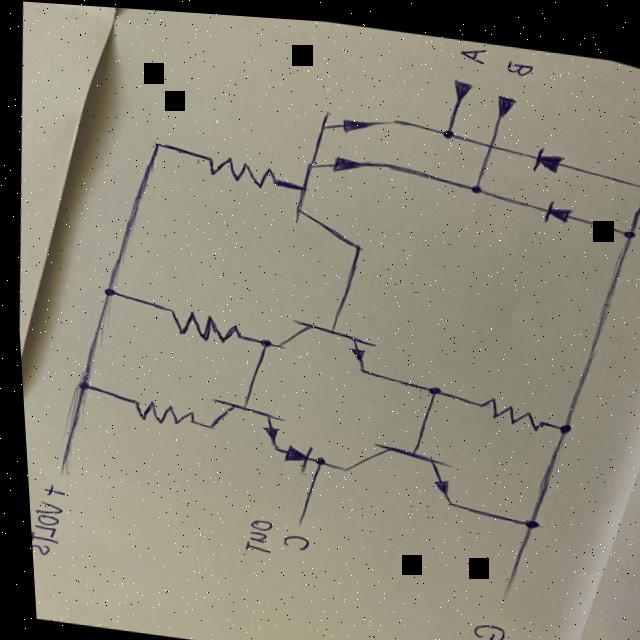crossover: (480, 132, 495, 146)
diode: (524, 135, 565, 172), (534, 190, 571, 221), (275, 438, 306, 472)
junction: (88, 279, 119, 303), (62, 373, 90, 396), (457, 169, 484, 192), (510, 506, 536, 528), (412, 374, 442, 393), (141, 133, 166, 155), (612, 214, 637, 235), (545, 413, 570, 431), (247, 331, 269, 349), (433, 117, 455, 135), (305, 449, 321, 467), (629, 170, 640, 186)
resistor: (157, 301, 239, 344), (194, 148, 277, 188), (467, 387, 541, 428), (119, 393, 194, 430)
terminal: (487, 83, 516, 118), (484, 573, 512, 606), (445, 69, 472, 100), (44, 451, 68, 480), (280, 499, 302, 524)
text: (23, 498, 58, 558), (232, 510, 267, 552), (452, 611, 499, 640), (502, 48, 537, 72), (453, 36, 488, 59), (270, 527, 304, 549), (31, 479, 60, 497)
transistor: (281, 95, 395, 253), (330, 431, 452, 503), (266, 311, 375, 375), (197, 391, 276, 447)
